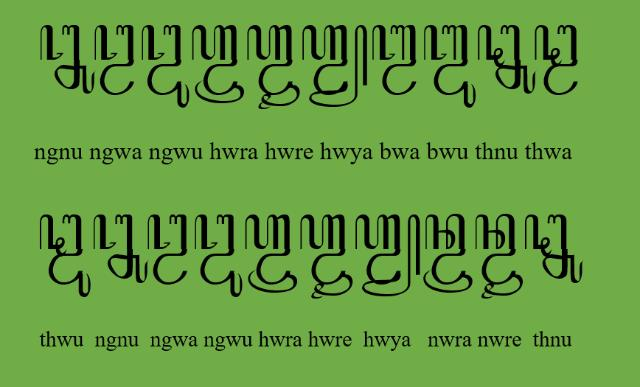bw: (372, 24, 416, 96)
bwu: (422, 25, 476, 109)
hwr: (245, 214, 298, 294), (192, 24, 244, 104)
hwre: (247, 24, 300, 110), (300, 214, 352, 300)
hwy: (302, 24, 368, 108), (355, 214, 421, 296)
ngnu: (92, 214, 150, 284), (40, 25, 96, 95)
ngwa: (94, 24, 136, 96), (148, 213, 188, 285)
ngwu: (141, 24, 189, 108), (194, 214, 242, 298)
nwr: (423, 214, 473, 294)
nwre: (474, 213, 524, 299)
thnu: (524, 214, 584, 284), (478, 24, 536, 94)
thw: (534, 24, 578, 96)
thwu: (39, 214, 91, 298)
